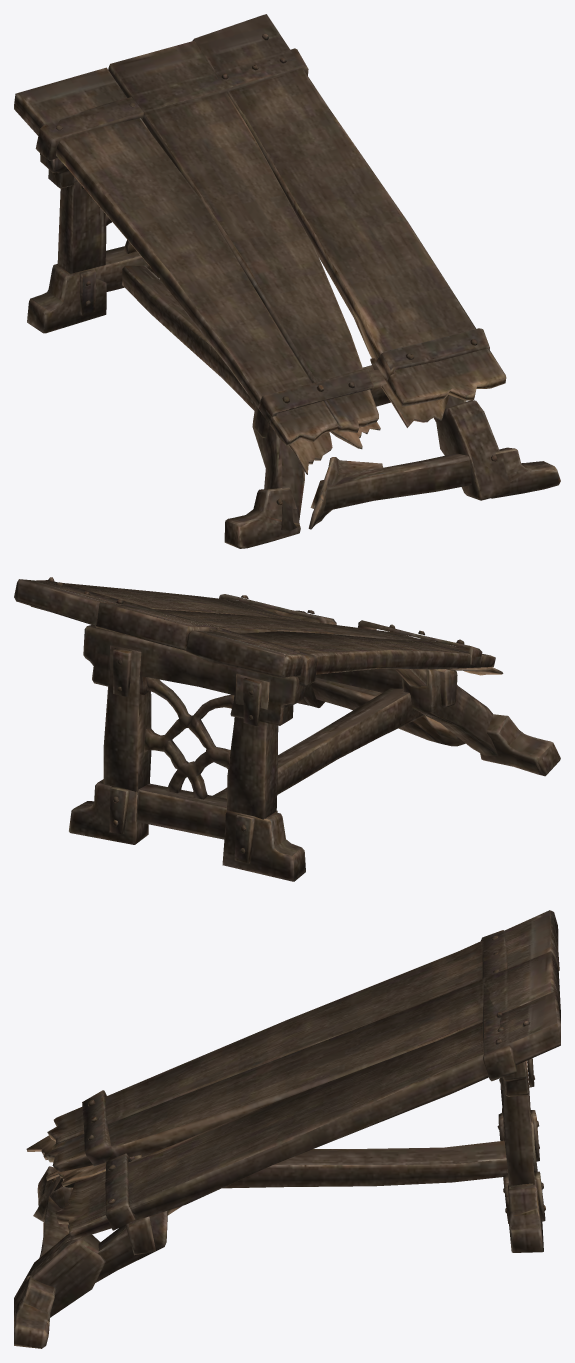
The model's file is d_table_long_broken.glb.
The picture shows the model from 3 angles, top to bottom: view 1: azimuth 30°, elevation 25°; view 2: azimuth 150°, elevation 25°; view 3: azimuth 270°, elevation 25°; orthographic projection. The views are drawn at different scales.
Visible parts, largest first — view 1: d_table_long_broken; view 2: d_table_long_broken; view 3: d_table_long_broken.
Part boxes in pixels (<box>): d_table_long_broken: <box>14,14,560,548</box>; d_table_long_broken: <box>14,577,560,881</box>; d_table_long_broken: <box>14,910,560,1348</box>.
Size of the model in its own units: 1.4 by 1.27 by 2.04.
1 material, 1 textured.
